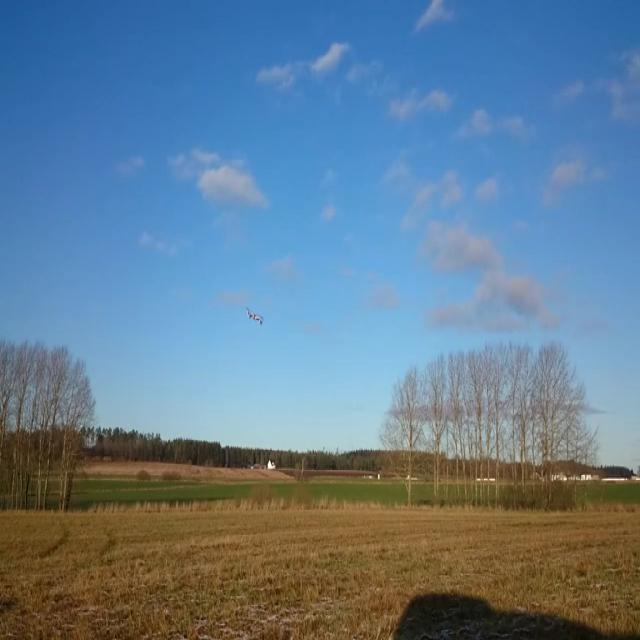Drone: (235, 302, 274, 331)
